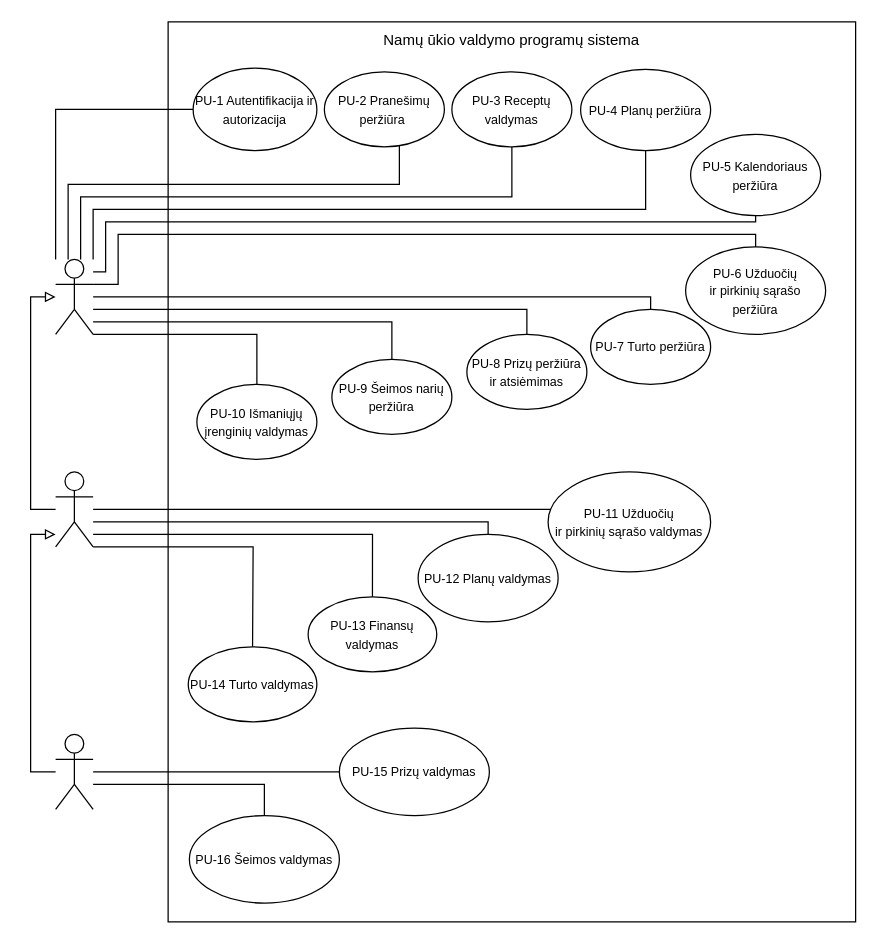
This 878x944 diagram has some shape labels left out. Here are the shapes that lost their labels. From the top down, the centre of each, then its label:
(x=73, y=296): Vaikas
(x=73, y=509): Šeimos narys
(x=73, y=771): Šeimos administratorius
